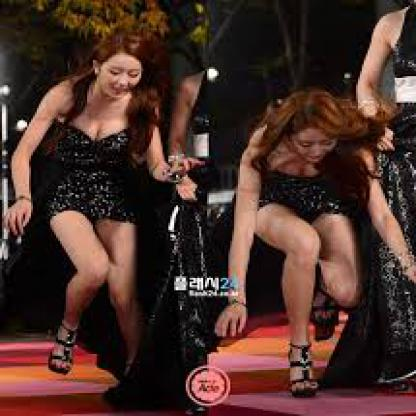Fall_Down: (216, 91, 414, 397)
